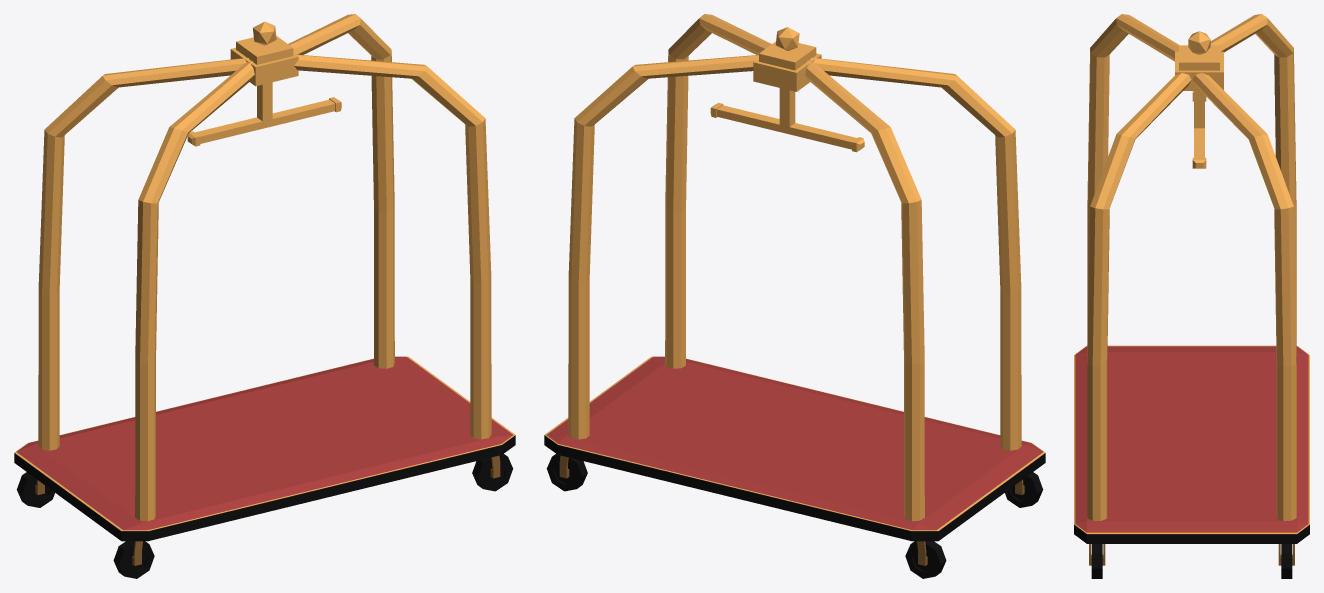
Rendered from Luggage Trolley.fbx.
The picture shows the model from 3 angles, left to right: view 1: azimuth 30°, elevation 25°; view 2: azimuth 150°, elevation 25°; view 3: azimuth 270°, elevation 25°; orthographic projection. The views are drawn at different scales.
Parts seen in each view (by area): view 1: Trolley Base, Trolley Upper, Wheel 2, Wheel 3, Wheel 1; view 2: Trolley Base, Trolley Upper, Wheel 1, Wheel 4, Wheel 2; view 3: Trolley Base, Trolley Upper, Wheel 3, Wheel 4.
Part boxes in pixels (x1,y1,x2,y2): Trolley Base: [14, 356, 515, 541]; Trolley Upper: [38, 14, 491, 521]; Wheel 2: [113, 541, 154, 578]; Wheel 3: [472, 454, 513, 491]; Wheel 1: [16, 472, 54, 507]; Trolley Base: [544, 356, 1045, 541]; Trolley Upper: [568, 14, 1021, 521]; Wheel 1: [905, 541, 946, 578]; Wheel 4: [546, 454, 587, 491]; Wheel 2: [1005, 472, 1043, 507]; Trolley Base: [1074, 345, 1309, 543]; Trolley Upper: [1087, 14, 1296, 520]; Wheel 3: [1089, 544, 1105, 578]; Wheel 4: [1278, 544, 1294, 578].
Size of the model in its own units: 2.38 by 2.73 by 1.26.
